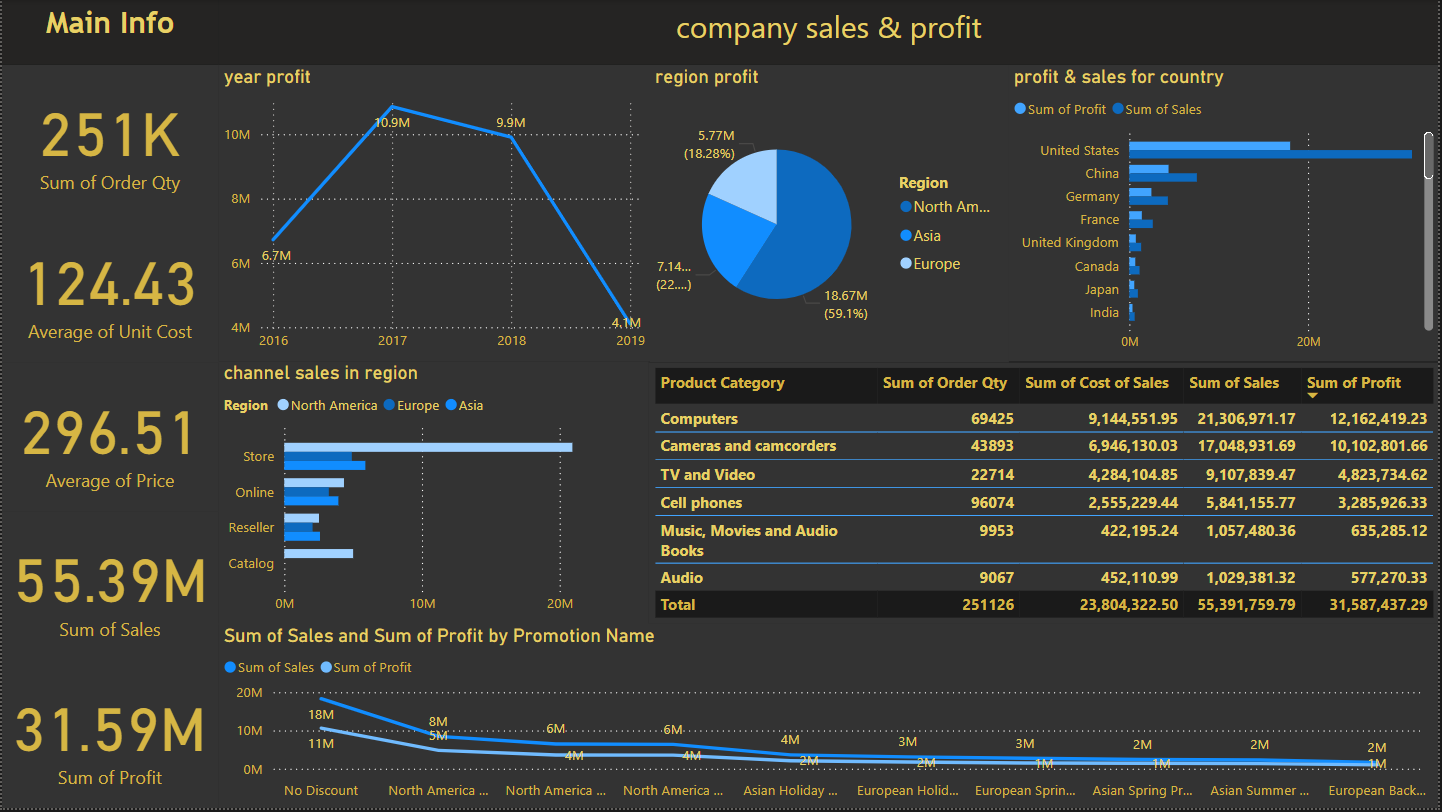

The page's visual inventory and layout, read from the dashboard file:
{"tool":"powerbi","page":{"name":"MAIN PAGE","canvas":[1280,720],"ordinal":0},"visuals":[{"type":"card","fields":{"Values":["Sum(Table1.Profit)"]},"box":[0,587.5,192.5,132.5],"z":0},{"type":"card","fields":{"Values":["Sum(Table1.Order Qty)"]},"box":[0,57.5,192.5,132.5],"z":1000},{"type":"card","fields":{"Values":["Avg(Table1.Price)"]},"box":[0,322.5,192.5,132.5],"z":2000},{"type":"card","fields":{"Values":["Avg(Table1.Unit Cost)"]},"box":[0,190,192.5,132.5],"z":3000},{"type":"card","fields":{"Values":["Sum(Table1.Sales)"]},"box":[0,455,192.5,132.5],"z":4000},{"type":"textbox","box":[0,0,192.5,57.5],"z":5000},{"type":"textbox","box":[192.5,0,1087.5,57.5],"z":6000},{"type":"lineChart","title":"year profit","fields":{"Y":["Sum(Table1.Profit)"],"Category":["Table1.Year"]},"box":[192.5,57.5,385,263.8],"z":7000},{"type":"pieChart","title":"region profit","fields":{"Y":["Sum(Table1.Profit)"],"Category":["Table1.Region"]},"box":[576.2,57.5,320,265],"z":8000},{"type":"clusteredBarChart","title":"profit & sales for country","fields":{"Category":["Table1.Country"],"Y":["Sum(Table1.Profit)","Sum(Table1.Sales)"]},"box":[896.2,57.5,383.8,263.8],"z":9000},{"type":"clusteredBarChart","title":"channel sales in region","fields":{"Category":["Table1.Channel"],"Series":["Table1.Region"],"Y":["Sum(Table1.Sales)"]},"box":[192.9,321.4,382.9,234.3],"z":10000},{"type":"tableEx","fields":{"Values":["Table1.Product Category","Sum(Table1.Order Qty)","Sum(Table1.Cost of Sales)","Sum(Table1.Sales)","Sum(Table1.Profit)"]},"box":[575.7,322.9,704.3,232.9],"z":11000},{"type":"lineChart","fields":{"Category":["Table1.Promotion Name"],"Y":["Sum(Table1.Sales)","Sum(Table1.Profit)"]},"box":[192.9,555.7,1087.1,164.3],"z":12000}]}

Visuals, with their boxes in screenshot pixels (x1, y1, x2, y2), scaled from the page's 1280x720 canvas onto the 1442x812 screenshot:
card - Sum(Table1.Profit): box=[0, 663, 217, 811]
card - Sum(Table1.Order Qty): box=[0, 65, 217, 214]
card - Avg(Table1.Price): box=[0, 364, 217, 513]
card - Avg(Table1.Unit Cost): box=[0, 214, 217, 364]
card - Sum(Table1.Sales): box=[0, 513, 217, 663]
textbox: box=[0, 0, 217, 65]
textbox: box=[217, 0, 1441, 65]
"year profit" lineChart: box=[217, 65, 651, 362]
"region profit" pieChart: box=[649, 65, 1010, 364]
"profit & sales for country" clusteredBarChart: box=[1010, 65, 1441, 362]
"channel sales in region" clusteredBarChart: box=[217, 362, 649, 627]
tableEx - Table1.Product Category x Sum(Table1.Order Qty): box=[649, 364, 1441, 627]
lineChart - Table1.Promotion Name x Sum(Table1.Sales): box=[217, 627, 1441, 811]
